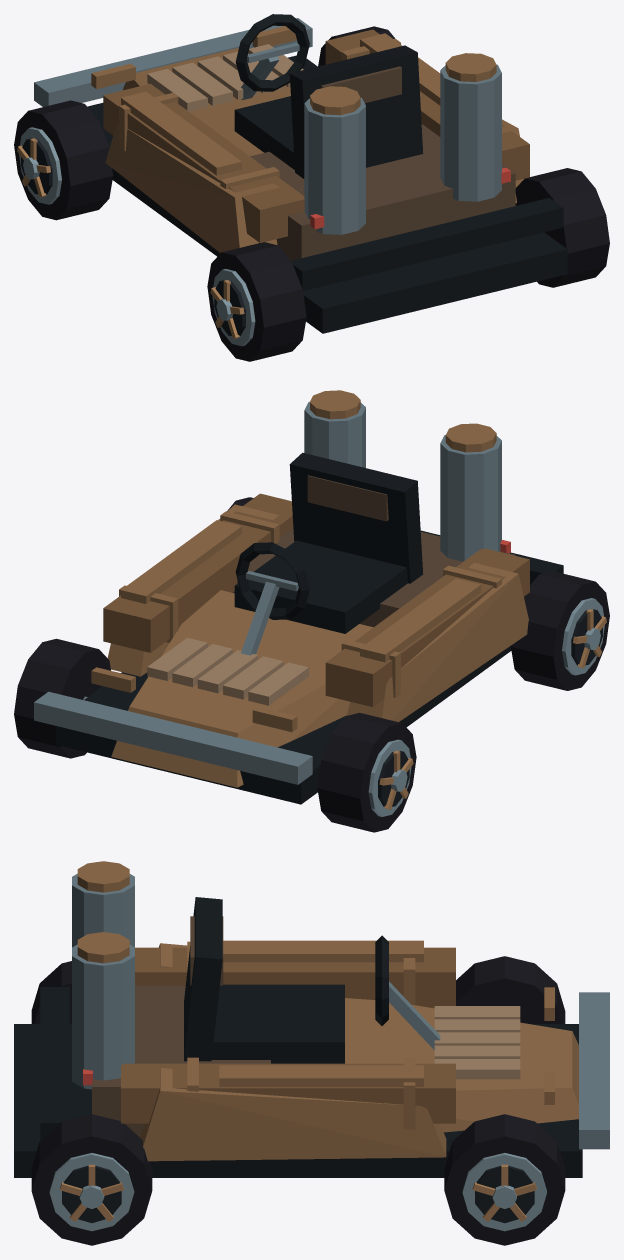
File: kart.glb
The picture shows the model from 3 angles, top to bottom: view 1: azimuth 30°, elevation 25°; view 2: azimuth 150°, elevation 25°; view 3: azimuth 270°, elevation 25°; orthographic projection. The views are drawn at different scales.
Parts seen in each view (by area): view 1: chassis, wheel-rear-left, wheel-front-left, wheel-rear-right; view 2: chassis, wheel-front-left, wheel-rear-left, wheel-front-right; view 3: chassis, wheel-front-right, wheel-rear-right, wheel-front-left, wheel-rear-left.
Boxes of the visible parts, left/top/right/bottom form: chassis: left=34, top=14, right=567, bottom=333; wheel-rear-left: left=207, top=242, right=306, bottom=361; wheel-front-left: left=14, top=100, right=113, bottom=220; wheel-rear-right: left=515, top=168, right=609, bottom=287; chassis: left=34, top=390, right=563, bottom=804; wheel-front-left: left=317, top=712, right=416, bottom=832; wheel-rear-left: left=510, top=571, right=609, bottom=690; wheel-front-right: left=14, top=638, right=110, bottom=758; chassis: left=14, top=861, right=609, bottom=1177; wheel-front-right: left=444, top=1114, right=565, bottom=1245; wheel-rear-right: left=31, top=1114, right=152, bottom=1245; wheel-front-left: left=456, top=956, right=565, bottom=1023; wheel-rear-left: left=31, top=961, right=71, bottom=1023.
Size of the model in its own units: 2.36 by 1.4 by 3.06.
